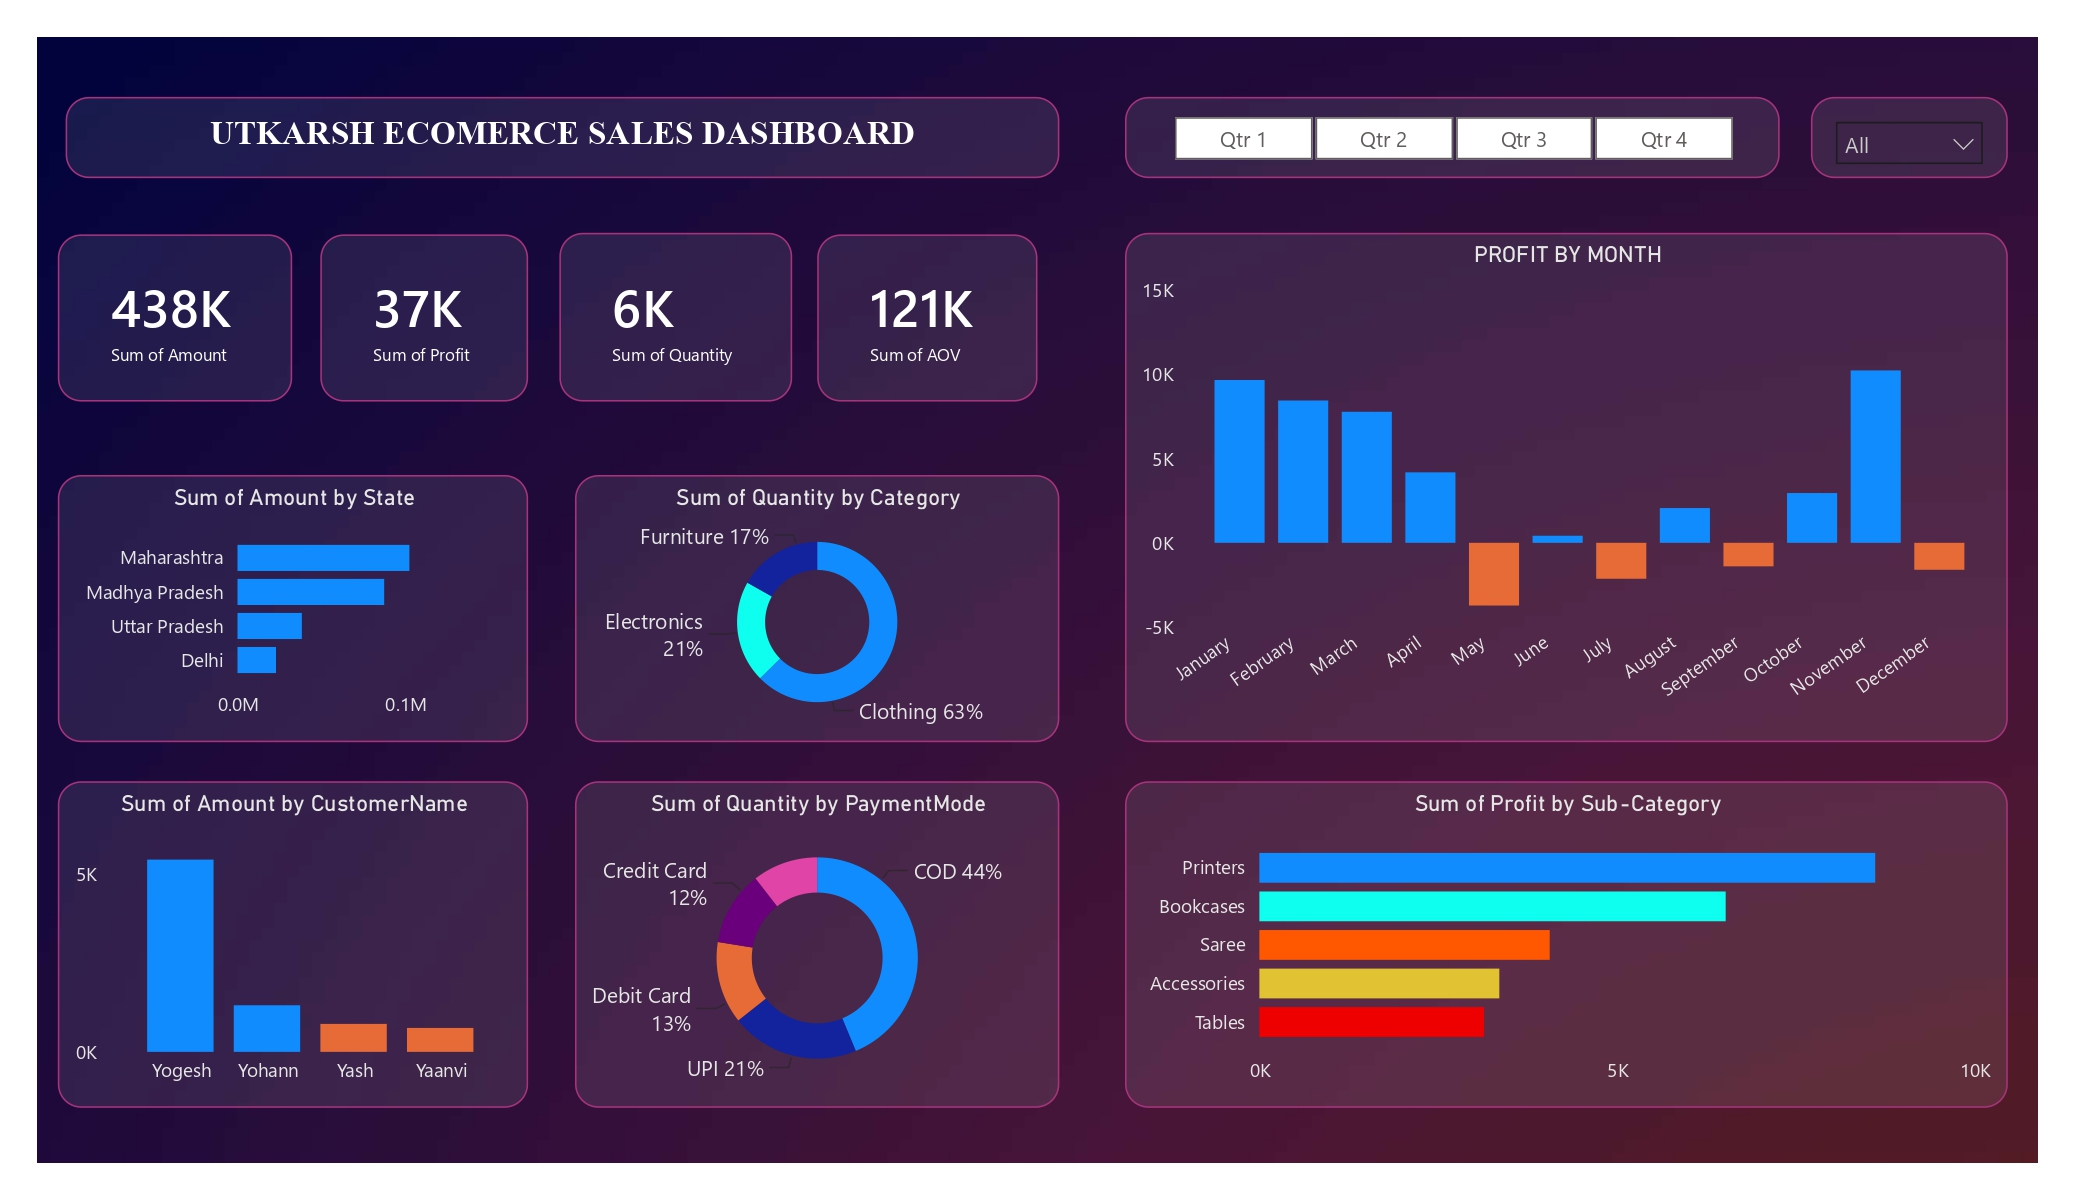

The page's visual inventory and layout, read from the dashboard file:
{"tool":"powerbi","page":{"name":"Page 1","canvas":[1280,720],"ordinal":0},"visuals":[{"type":"textbox","box":[17.5,37.5,636.2,52.5],"z":0},{"type":"columnChart","title":"PROFIT BY MONTH","fields":{"Y":["Sum(Details.Profit)"],"Category":["Orders.Order Date.Variation.Date Hierarchy.Month"]},"box":[696.2,125,565,326.2],"z":1000},{"type":"barChart","fields":{"Category":["Details.Sub-Category"],"Y":["Sum(Details.Profit)"]},"box":[696.2,476.2,565,208.8],"z":2000},{"type":"donutChart","fields":{"Category":["Details.Category"],"Y":["Sum(Details.Quantity)"]},"box":[343.8,280,310,171.2],"z":3000},{"type":"donutChart","fields":{"Y":["Sum(Details.Quantity)"],"Category":["Details.PaymentMode"]},"box":[343.8,476.2,310,208.8],"z":4000},{"type":"cardVisual","fields":{"Data":["Sum(Details.Amount)"]},"box":[12.5,126.2,151.2,120],"z":5000},{"type":"cardVisual","fields":{"Data":["Sum(Details.Profit)"]},"box":[181.2,126.2,132.5,120],"z":6000},{"type":"cardVisual","fields":{"Data":["Sum(Details.Quantity)"]},"box":[333.8,125,155,121.2],"z":7000},{"type":"cardVisual","fields":{"Data":["Sum(Details.AOV)"]},"box":[508.8,126.2,145,120],"z":8000},{"type":"barChart","fields":{"Category":["Orders.State"],"Y":["Sum(Details.Amount)"]},"box":[12.5,280,301.2,171.2],"z":9000},{"type":"columnChart","fields":{"Category":["Orders.CustomerName"],"Y":["Sum(Details.Amount)"]},"box":[12.5,476.2,301.2,208.8],"z":10000},{"type":"slicer","fields":{"Values":["Orders.State"]},"box":[1135,37.5,126.2,52.5],"z":11000},{"type":"slicer","fields":{"Values":["Orders.Order Date.Variation.Date Hierarchy.Quarter"]},"box":[696.2,37.5,418.8,52.5],"z":12000}]}

Visuals, with their boxes on the page's 1280x720 design canvas (x1, y1, x2, y2). These are canvas units, not pixel positions in the 2075x1200 screenshot, which may show the page scaled, cropped or inside an application window:
textbox: l=18, t=38, r=654, b=90
"PROFIT BY MONTH" columnChart: l=696, t=125, r=1261, b=451
barChart - Details.Sub-Category x Sum(Details.Profit): l=696, t=476, r=1261, b=685
donutChart - Details.Category x Sum(Details.Quantity): l=344, t=280, r=654, b=451
donutChart - Sum(Details.Quantity) x Details.PaymentMode: l=344, t=476, r=654, b=685
cardVisual - Sum(Details.Amount): l=12, t=126, r=164, b=246
cardVisual - Sum(Details.Profit): l=181, t=126, r=314, b=246
cardVisual - Sum(Details.Quantity): l=334, t=125, r=489, b=246
cardVisual - Sum(Details.AOV): l=509, t=126, r=654, b=246
barChart - Orders.State x Sum(Details.Amount): l=12, t=280, r=314, b=451
columnChart - Orders.CustomerName x Sum(Details.Amount): l=12, t=476, r=314, b=685
slicer - Orders.State: l=1135, t=38, r=1261, b=90
slicer - Orders.Order Date.Variation.Date Hierarchy.Quarter: l=696, t=38, r=1115, b=90
